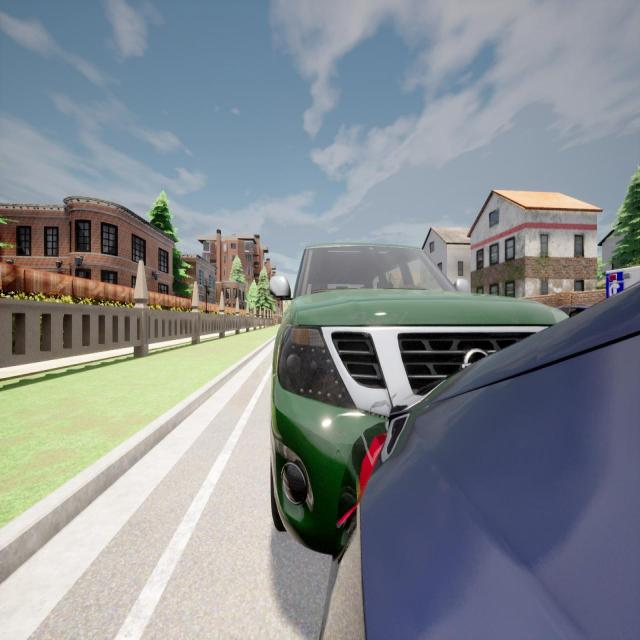Vehicle: (289, 284, 639, 638), (270, 244, 564, 555), (605, 269, 640, 298), (559, 305, 587, 314)
